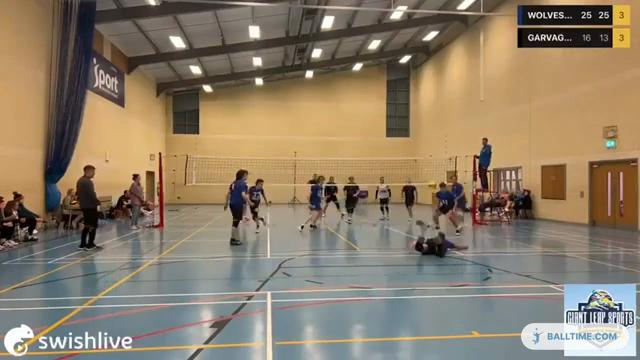Dig: (407, 216, 473, 259)
Player: (225, 170, 250, 244), (298, 175, 324, 230), (433, 182, 460, 234), (248, 179, 268, 232), (323, 176, 344, 216), (343, 176, 359, 223), (451, 175, 466, 225), (375, 177, 390, 219), (402, 179, 417, 221)
ball: (427, 181, 436, 190)
